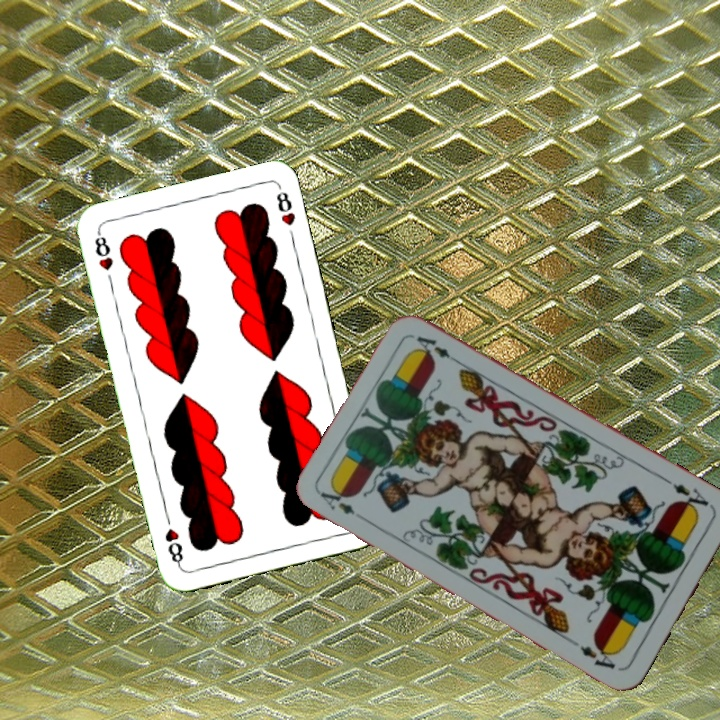EA: (316, 482, 370, 524), (662, 475, 716, 515)
H8: (90, 228, 116, 274)
